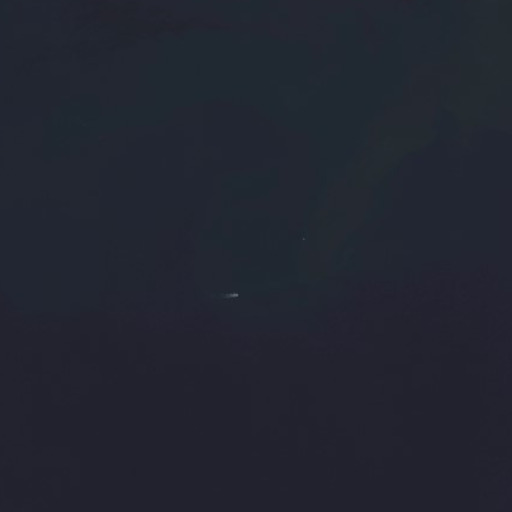ship: (225, 290, 240, 301)
